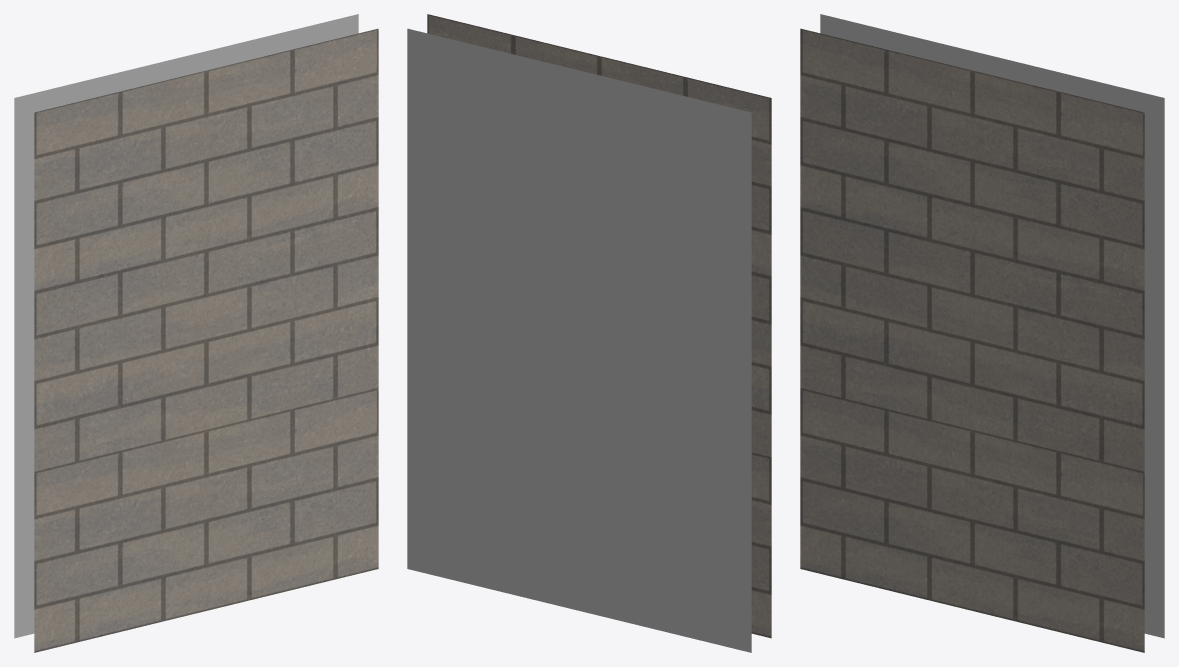
The model's file is WhiteBrick_Plain_3.gltf.
The picture shows the model from 3 angles, left to right: view 1: azimuth 30°, elevation 25°; view 2: azimuth 150°, elevation 25°; view 3: azimuth 330°, elevation 25°; orthographic projection.
Visible parts, largest first — view 1: WhiteBrick_Plain_3; view 2: WhiteBrick_Plain_3; view 3: WhiteBrick_Plain_3.
Part boxes in pixels (<box>): WhiteBrick_Plain_3: <box>14,14,378,652</box>; WhiteBrick_Plain_3: <box>407,14,771,652</box>; WhiteBrick_Plain_3: <box>800,14,1164,652</box>.
Size of what is drawn, in the model's own units: 2 by 3 by 0.2.
